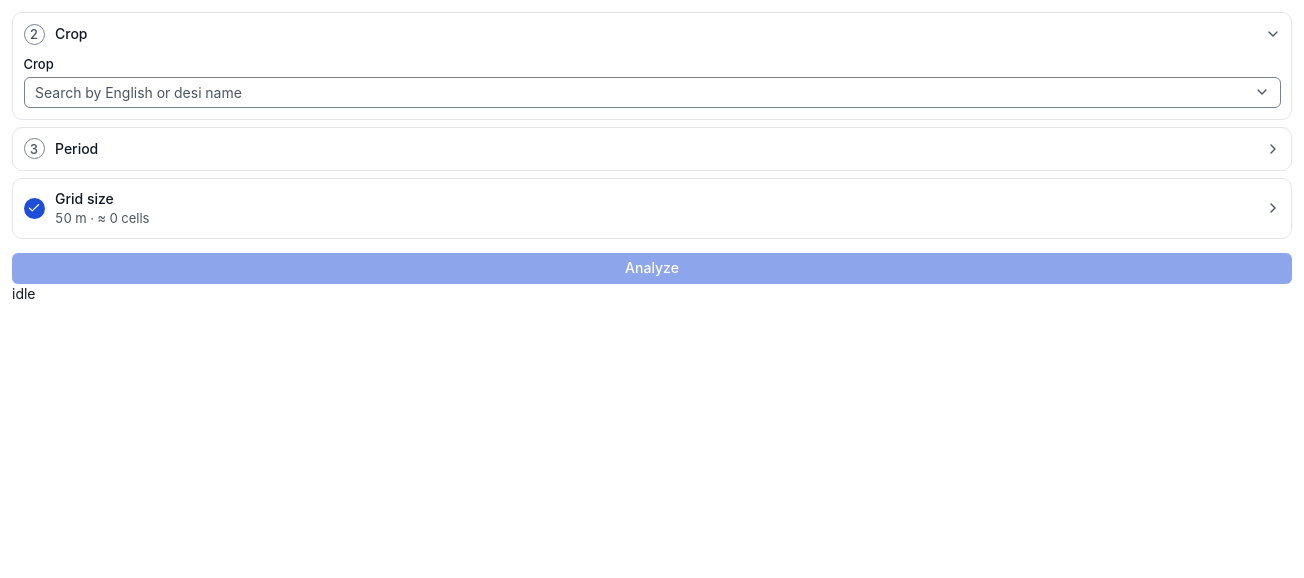
Test: AnalysisSetupPanel › clears that message once the dates are in order
Click the button "3 Period" at [78, 147], box [13,128,1291,170]
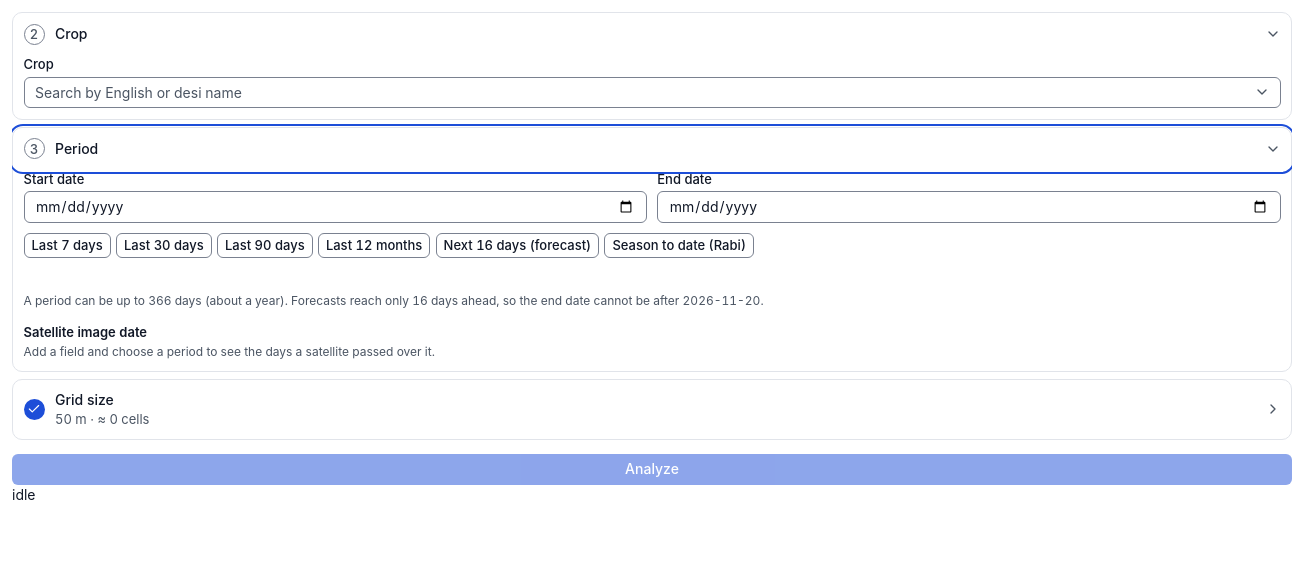
Type "2026-10-20" into the date field labelled "Start date" at [335, 207], box [24,191,647,222]
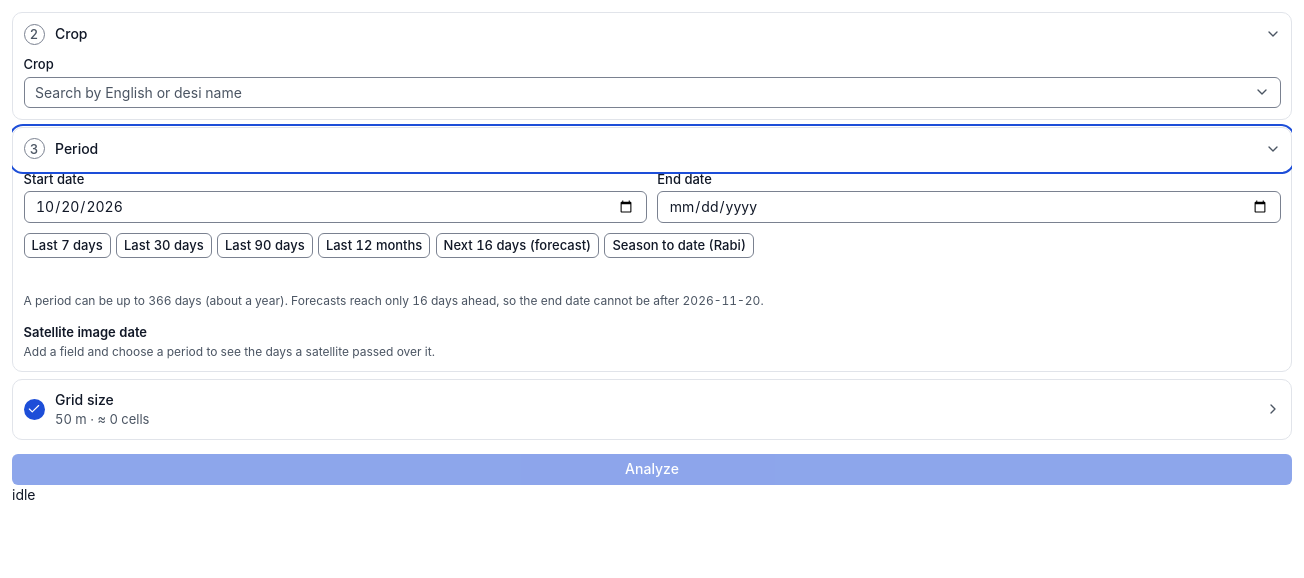
Type "2026-10-05" into the date field labelled "End date" at [969, 207], box [657,191,1281,222]
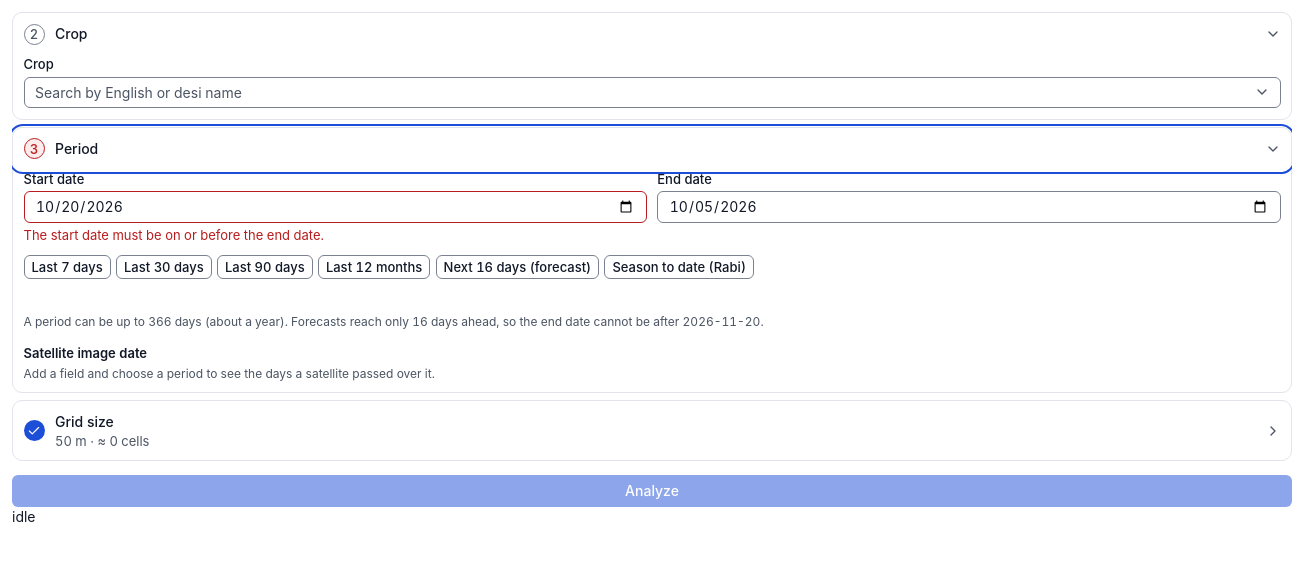
Now the text "The start date must be on or before the end date." is shown, box [24,227,324,243]
Type "2026-10-25" into the date field labelled "End date" at [969, 207], box [657,191,1281,222]
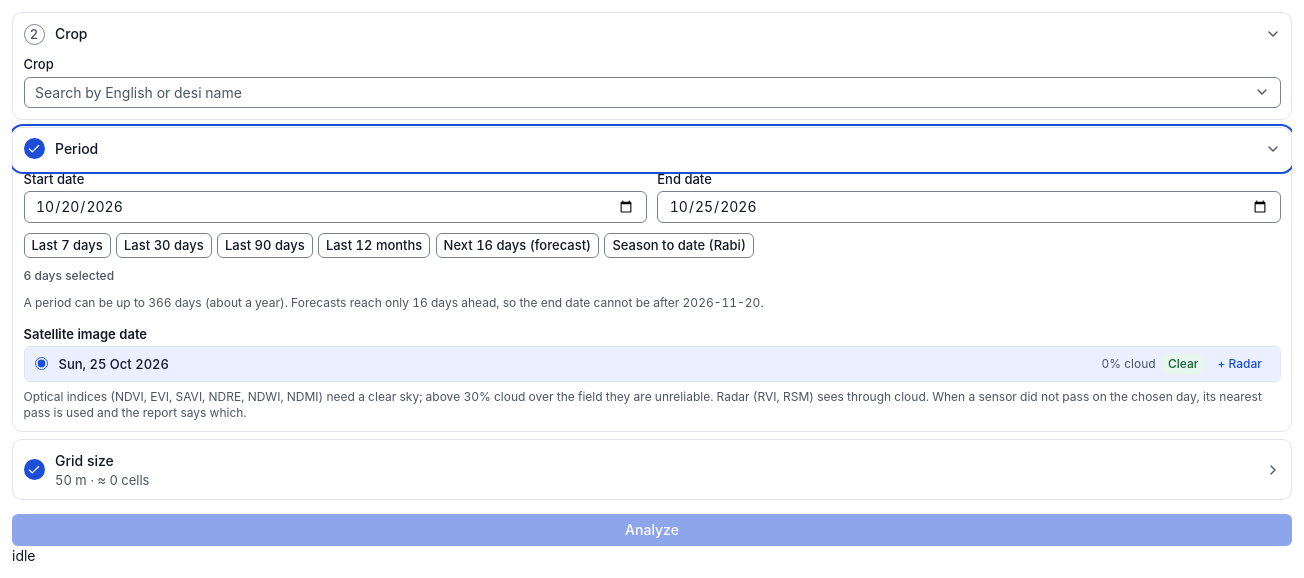
Now the text "The start date must be on or before the end date." is gone
